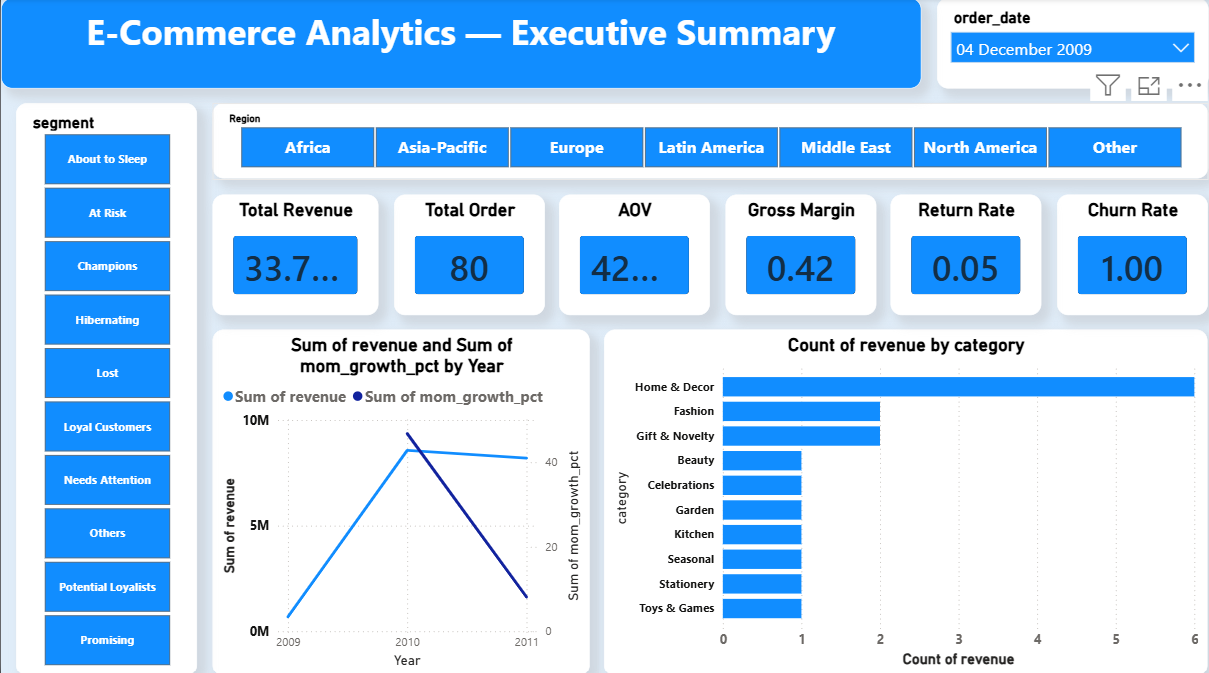

Layout of this report page (visuals, bound fields, positions):
{"tool":"powerbi","page":{"name":"Executive Summary","canvas":[1280,720],"ordinal":0},"visuals":[{"type":"cardVisual","title":"Total Order","fields":{"Data":["orders.Total Orders"]},"box":[416,208,160,128],"z":2000},{"type":"cardVisual","title":"AOV","fields":{"Data":["orders.AOV"]},"box":[592,208,160,128],"z":3000},{"type":"cardVisual","title":"Gross Margin ","fields":{"Data":["orders.Gross Margin %"]},"box":[768,208,160,128],"z":4000},{"type":"lineChart","fields":{"Category":["monthly_revenue.month.Variation.Date Hierarchy.Year","monthly_revenue.month.Variation.Date Hierarchy.Quarter","monthly_revenue.month.Variation.Date Hierarchy.Month","monthly_revenue.month.Variation.Date Hierarchy.Day"],"Y":["Sum(monthly_revenue.revenue)"],"Y2":["Sum(monthly_revenue.mom_growth_pct)"]},"box":[224,352,400,368],"z":7000},{"type":"clusteredBarChart","fields":{"Category":["category_performance.category"],"Y":["CountNonNull(category_performance.revenue)"]},"box":[640,352,640,368],"z":8000},{"type":"slicer","fields":{"Values":["orders.order_date"]},"box":[992,0,288,96],"z":9000},{"type":"slicer","fields":{"Values":["customers.region"]},"box":[224,112,1056,80],"z":10000},{"type":"slicer","fields":{"Values":["rfm_segments.segment"]},"box":[16,112,192,608],"z":11000},{"type":"textbox","box":[0,0,976,96],"z":12000},{"type":"cardVisual","title":"Total Revenue","fields":{"Data":["orders.Total Revenue"]},"box":[224,208,176,128],"z":13500},{"type":"cardVisual","title":"Churn Rate","fields":{"Data":["orders.Churn Rate %"]},"box":[1120,208,160,128],"z":14500},{"type":"cardVisual","title":"Return Rate ","fields":{"Data":["orders.Return Rate %"]},"box":[944,208,160,128],"z":15500}]}

Visuals, with their boxes in screenshot pixels (x1, y1, x2, y2), scaled from the page's 1280x720 canvas onto the 1209x673 screenshot:
"Total Order" cardVisual: [393, 194, 544, 314]
"AOV" cardVisual: [559, 194, 710, 314]
"Gross Margin " cardVisual: [725, 194, 877, 314]
lineChart - monthly_revenue.month.Variation.Date Hierarchy.Year x monthly_revenue.month.Variation.Date Hierarchy.Quarter: [212, 329, 589, 672]
clusteredBarChart - category_performance.category x CountNonNull(category_performance.revenue): [604, 329, 1208, 672]
slicer - orders.order_date: [937, 0, 1208, 90]
slicer - customers.region: [212, 105, 1208, 179]
slicer - rfm_segments.segment: [15, 105, 196, 672]
textbox: [0, 0, 922, 90]
"Total Revenue" cardVisual: [212, 194, 378, 314]
"Churn Rate" cardVisual: [1058, 194, 1208, 314]
"Return Rate " cardVisual: [892, 194, 1043, 314]
